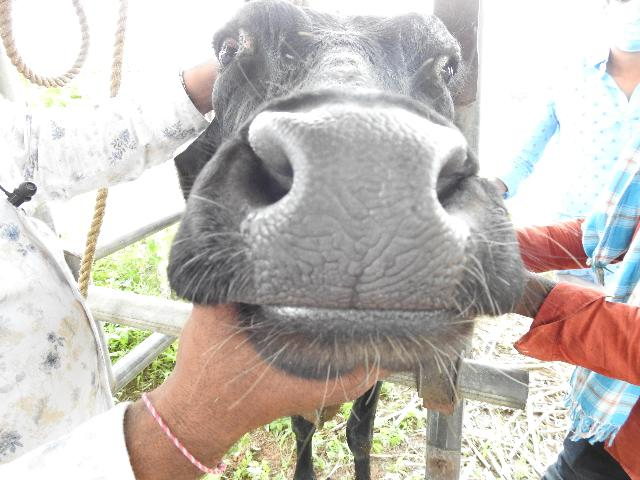Muzzle: (252, 111, 452, 295)
